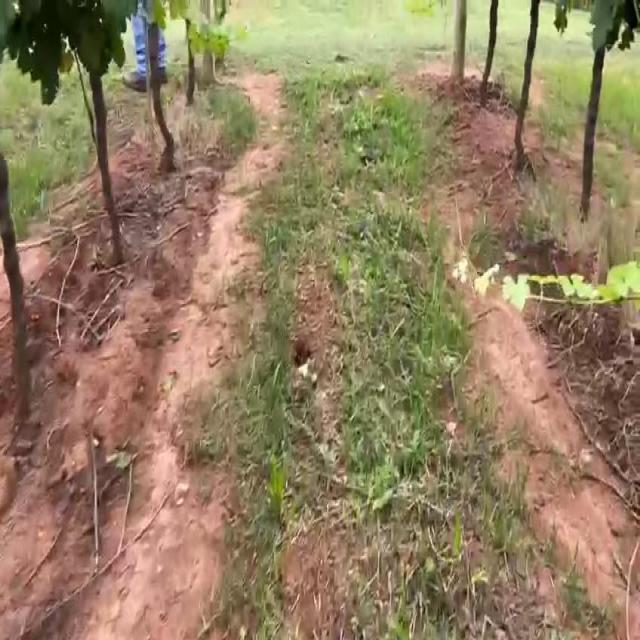tree trunk: (0, 152, 30, 421), (89, 70, 122, 262), (580, 45, 604, 220), (148, 23, 175, 172), (479, 0, 497, 105), (451, 0, 466, 83), (185, 19, 194, 104)
